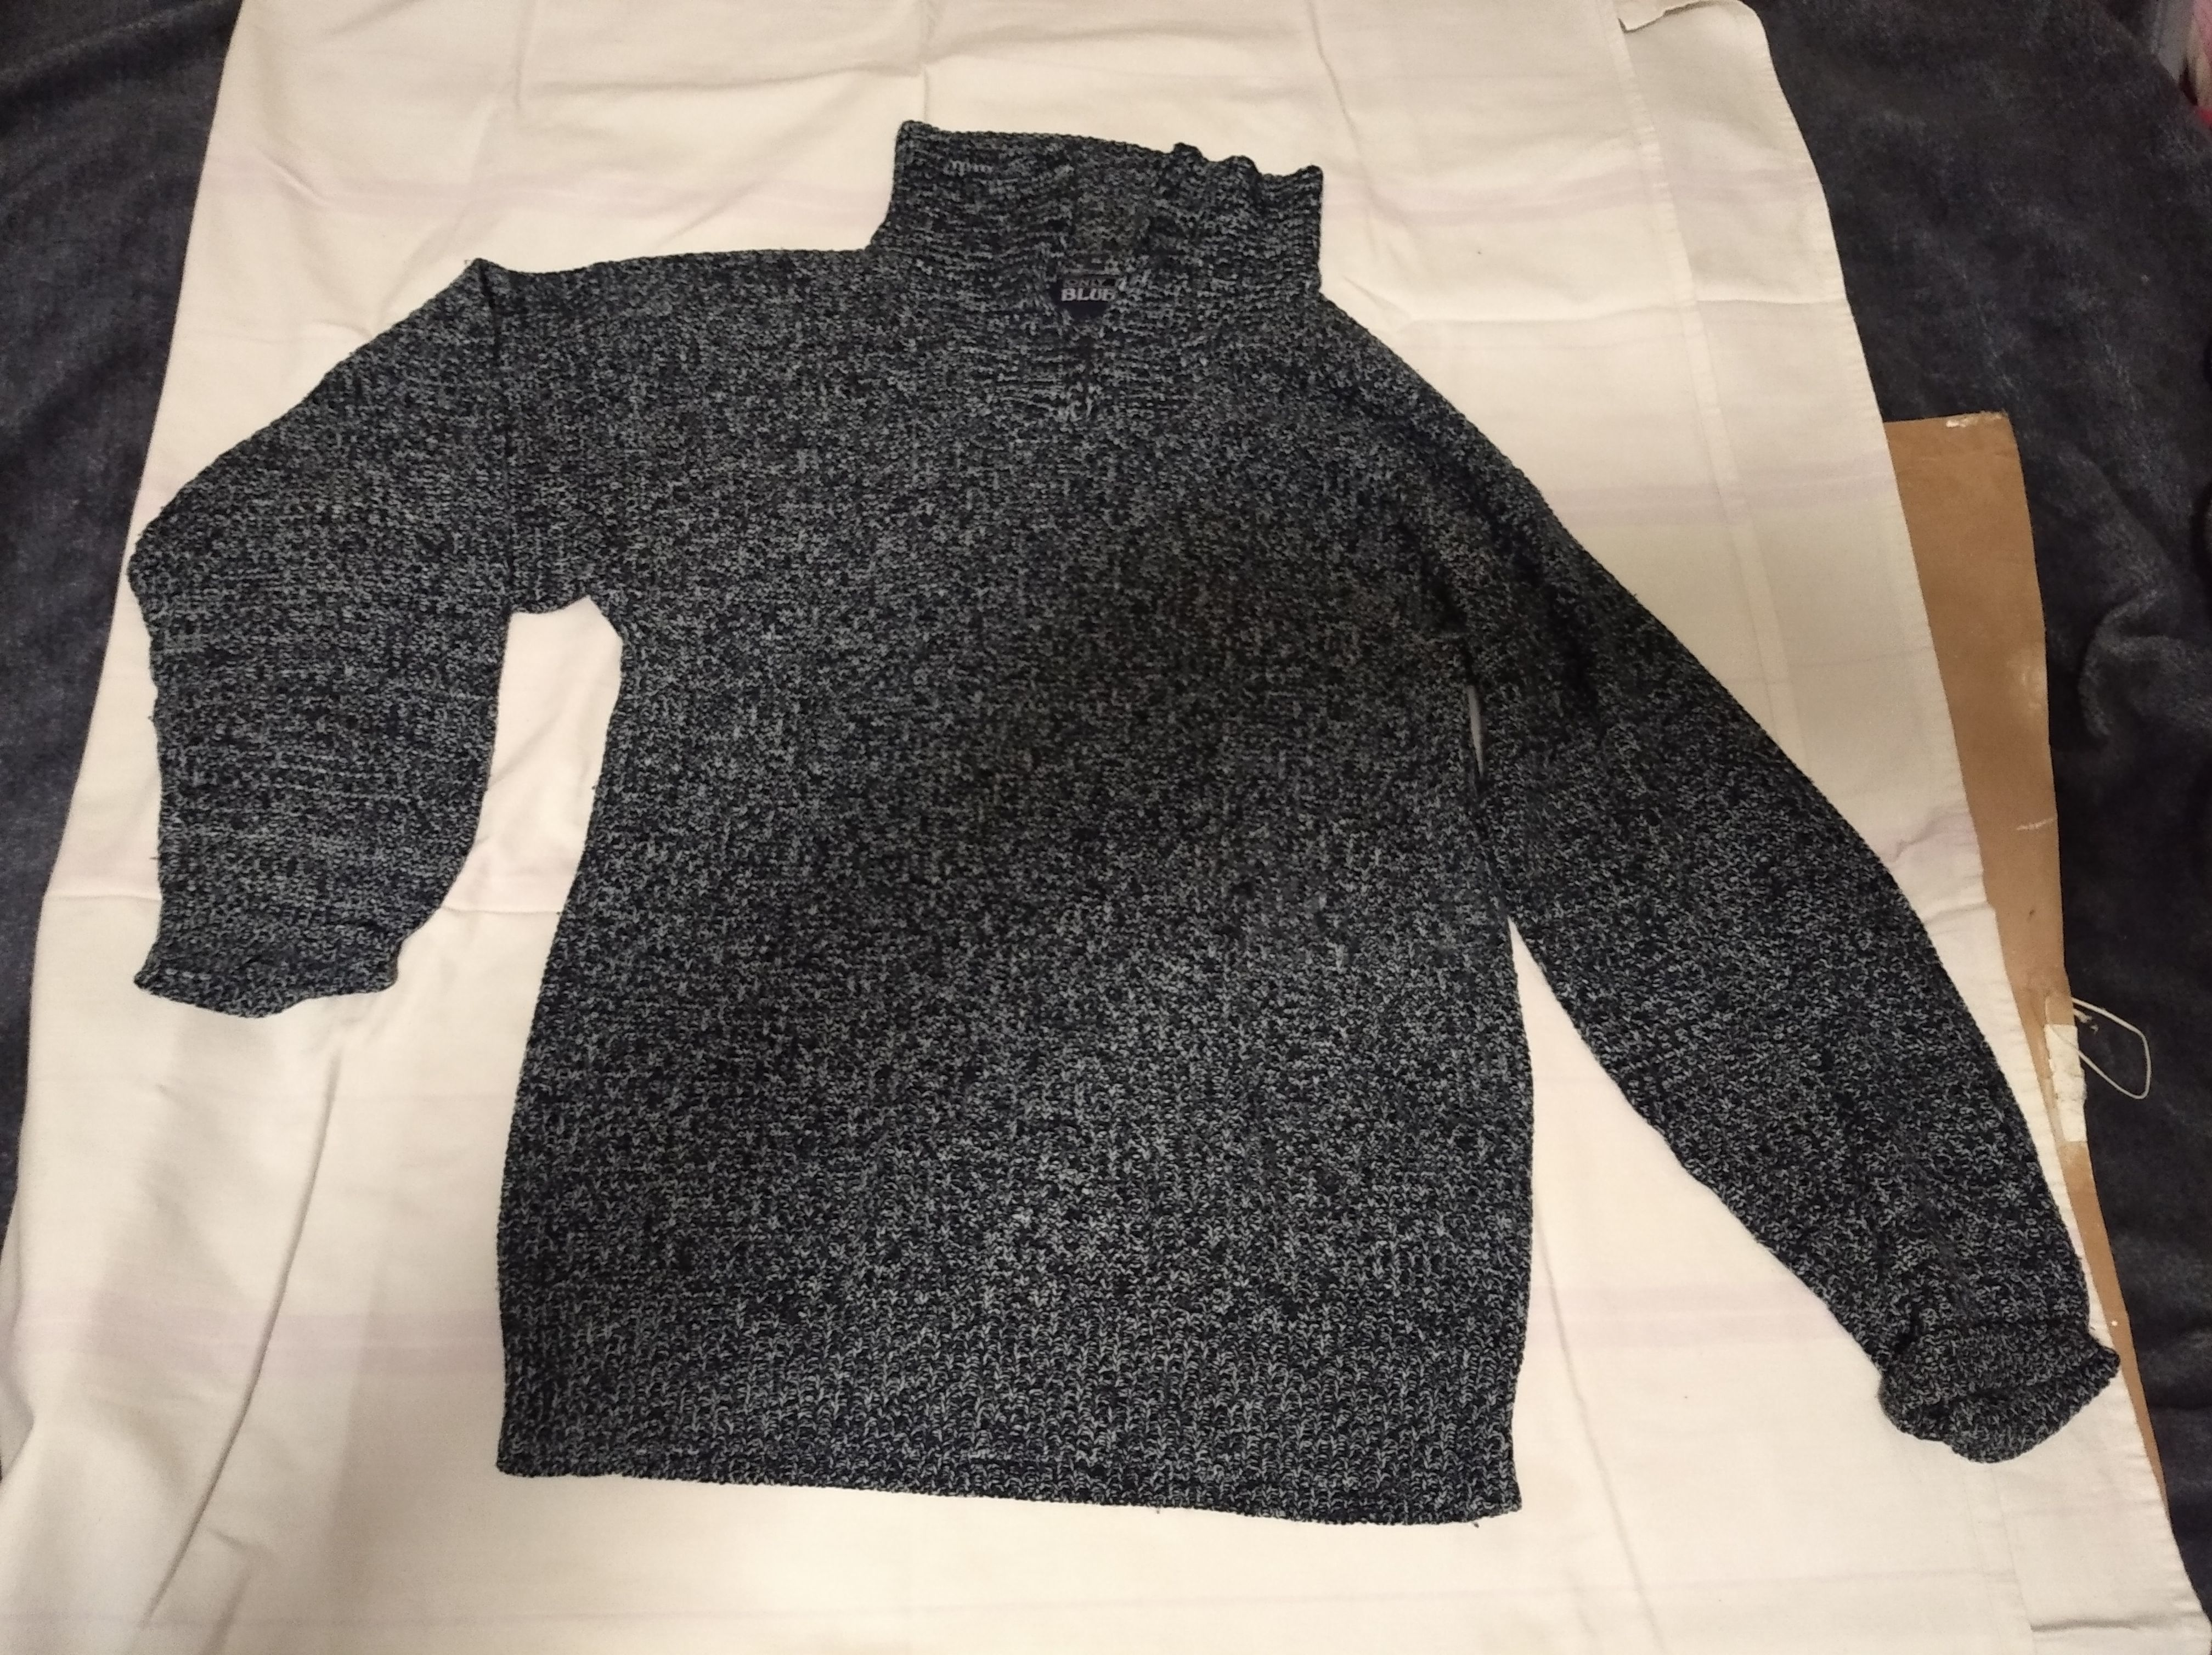clothes: (108, 118, 2123, 1523)
